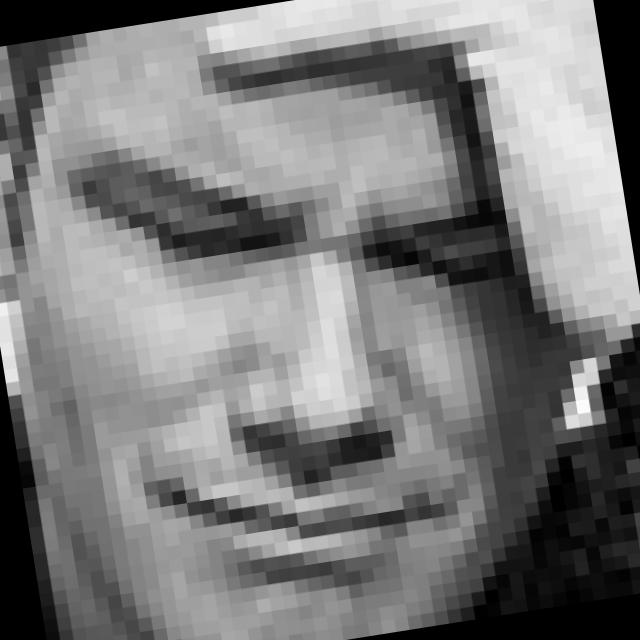sad: (56, 93, 574, 626)
